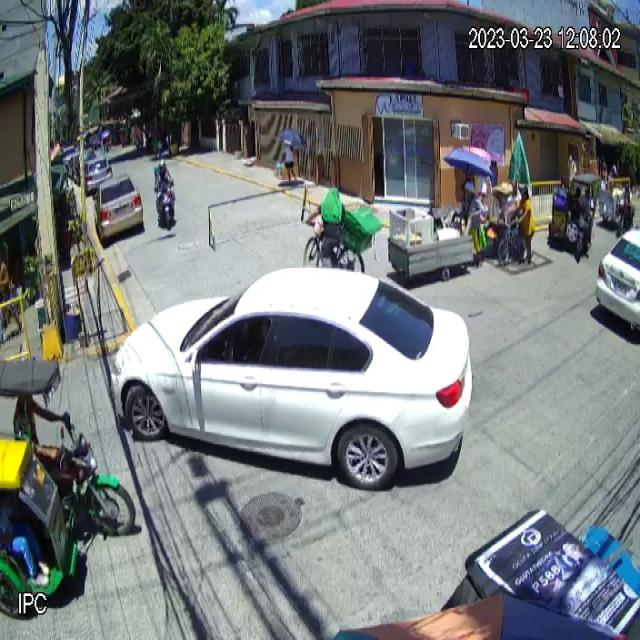Car: (112, 267, 474, 489), (93, 172, 144, 240)
Tricycle: (0, 357, 136, 617), (548, 171, 599, 264)
